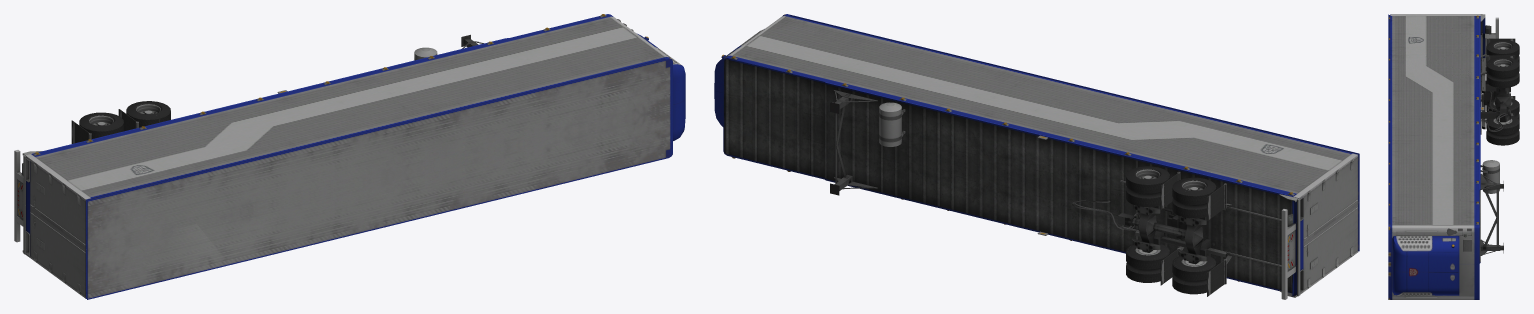
The model's file is VH-Optimus Trailer.obj.
3 renders of one model, left to right at view 1: azimuth 30°, elevation 25°; view 2: azimuth 150°, elevation 25°; view 3: azimuth 270°, elevation 25°, orthographic. The views are drawn at different scales.
Visible parts, largest first — view 1: C_Reference_XR; view 2: C_Reference_XR; view 3: C_Reference_XR.
Boxes of the visible parts, bbox=[...] form: C_Reference_XR: bbox=[14, 14, 685, 299]; C_Reference_XR: bbox=[714, 14, 1359, 299]; C_Reference_XR: bbox=[1388, 14, 1519, 299].
Bounding box in the file's own units: 1915 × 311 × 480.
1 material, 1 textured.
